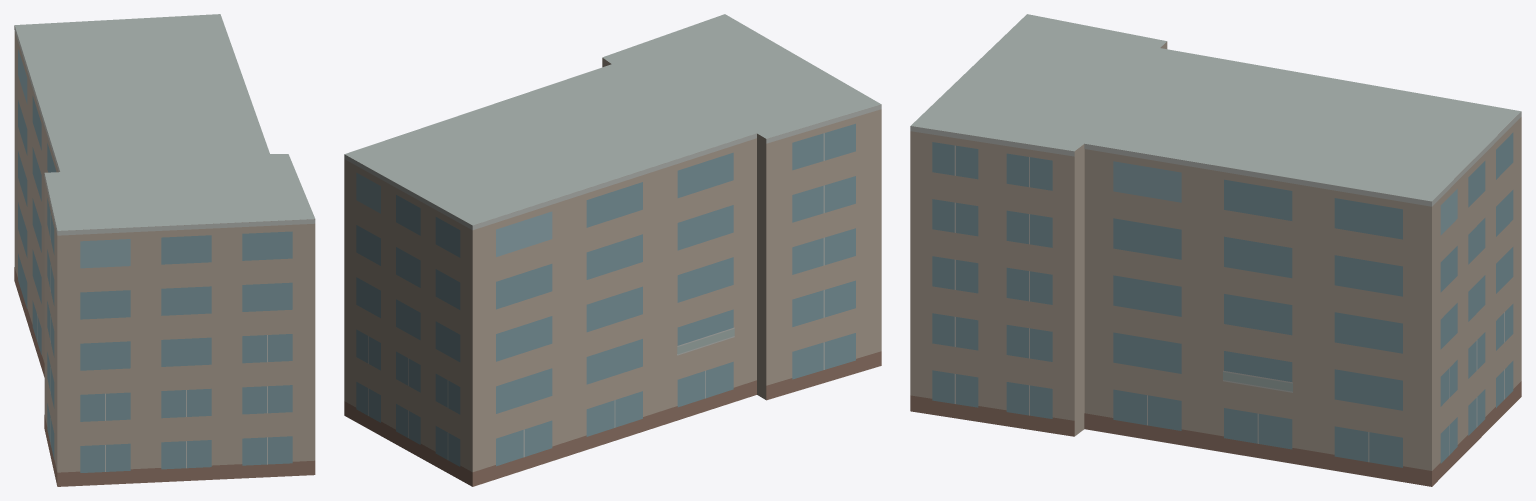
The model's file is survey-upis-32590543.glb.
The picture shows the model from 3 angles, left to right: view 1: azimuth 30°, elevation 25°; view 2: azimuth 150°, elevation 25°; view 3: azimuth 270°, elevation 25°; orthographic projection. The views are drawn at different scales.
Parts seen in each view (by area): view 1: survey-upis-32590543.tmp; view 2: survey-upis-32590543.tmp; view 3: survey-upis-32590543.tmp.
Part boxes in pixels (x1,y1,x2,y2): survey-upis-32590543.tmp: (14, 14, 315, 486); survey-upis-32590543.tmp: (344, 14, 881, 486); survey-upis-32590543.tmp: (910, 14, 1521, 486).
Size of the model in its own units: 18.75 by 13.3 by 25.82.
